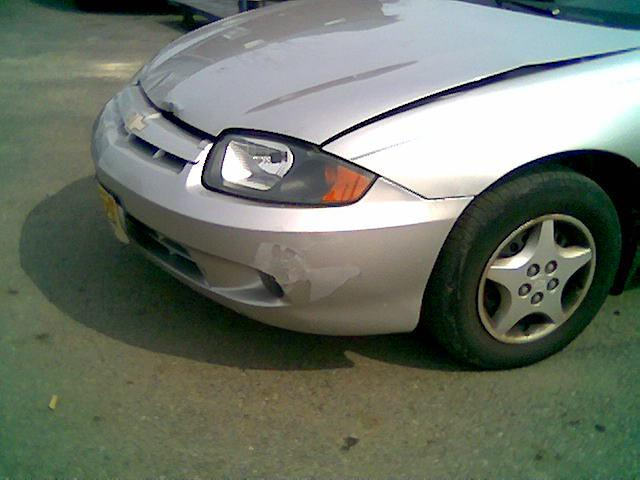bonnet-dent: (125, 48, 288, 168)
fender-dent: (334, 116, 521, 194)
front-bumper-dent: (135, 210, 424, 336)
